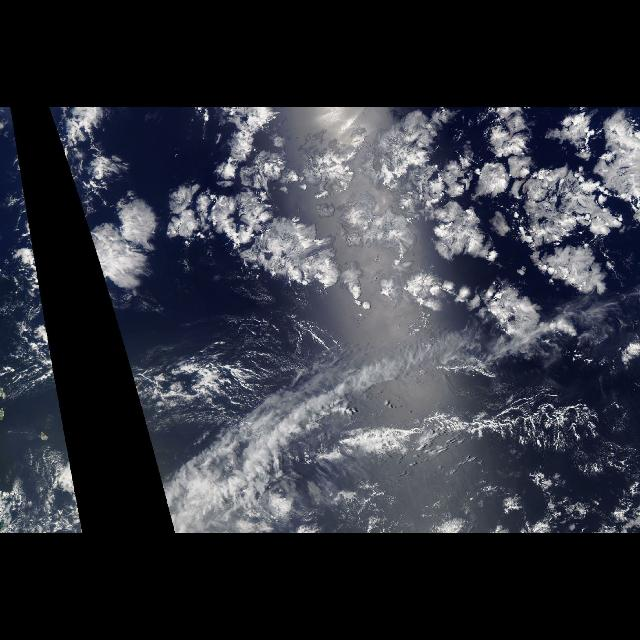Flower: (152, 108, 638, 336)
Sugar: (488, 379, 636, 475)
